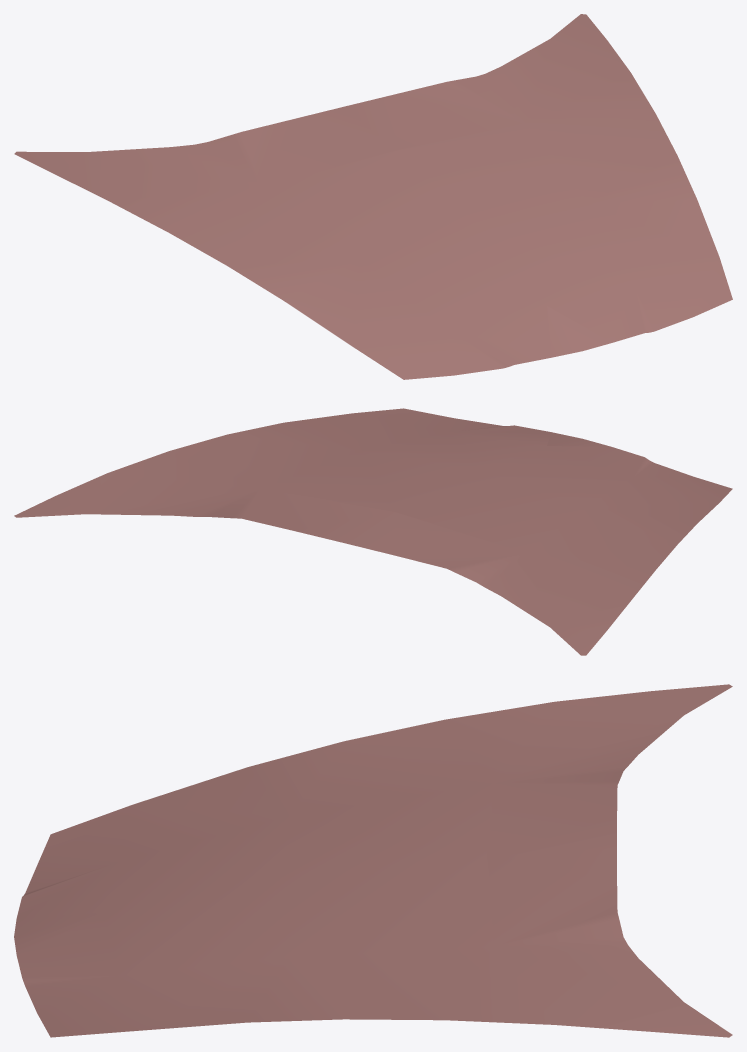
File: Zr1_Hood_01_Trim.fbx
3 views of the same model, one above another, from view 1: azimuth 30°, elevation 25°; view 2: azimuth 150°, elevation 25°; view 3: azimuth 270°, elevation 25° (orthographic). The views are drawn at different scales.
Parts seen in each view (by area): view 1: Zr1_Hood_01_Trim; view 2: Zr1_Hood_01_Trim; view 3: Zr1_Hood_01_Trim.
Boxes of the visible parts, left/top/right/bottom form: Zr1_Hood_01_Trim: left=14, top=14, right=732, bottom=379; Zr1_Hood_01_Trim: left=14, top=408, right=732, bottom=655; Zr1_Hood_01_Trim: left=14, top=684, right=732, bottom=1037.
Size of the model in its own units: 153 by 18.43 by 131.
